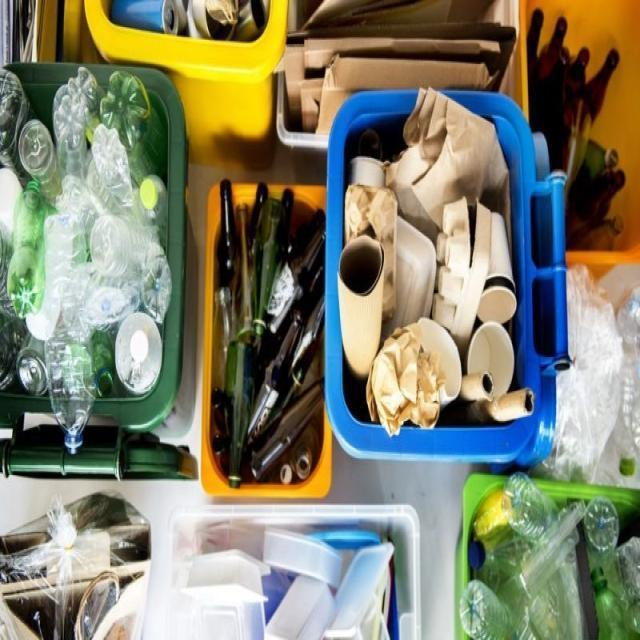Garbage: (0, 67, 171, 451), (210, 180, 325, 487), (460, 473, 640, 640), (538, 264, 640, 488)
Glass_bottle: (255, 209, 325, 390), (250, 380, 324, 480), (252, 198, 285, 348), (226, 338, 252, 488), (218, 180, 236, 287)
Plastic_Bag: (538, 267, 622, 481)
Plastic_bottle: (42, 211, 95, 453), (100, 71, 168, 183), (8, 180, 49, 317), (90, 213, 164, 277), (86, 124, 134, 212), (502, 473, 558, 543), (115, 311, 162, 394), (0, 69, 32, 187), (52, 78, 88, 177), (19, 120, 61, 203), (460, 580, 514, 640), (56, 176, 104, 243), (231, 204, 252, 339), (75, 67, 105, 141), (0, 304, 26, 388), (584, 496, 619, 554), (136, 176, 166, 243), (212, 287, 231, 390), (92, 329, 114, 398), (0, 167, 22, 230), (0, 220, 12, 312)
